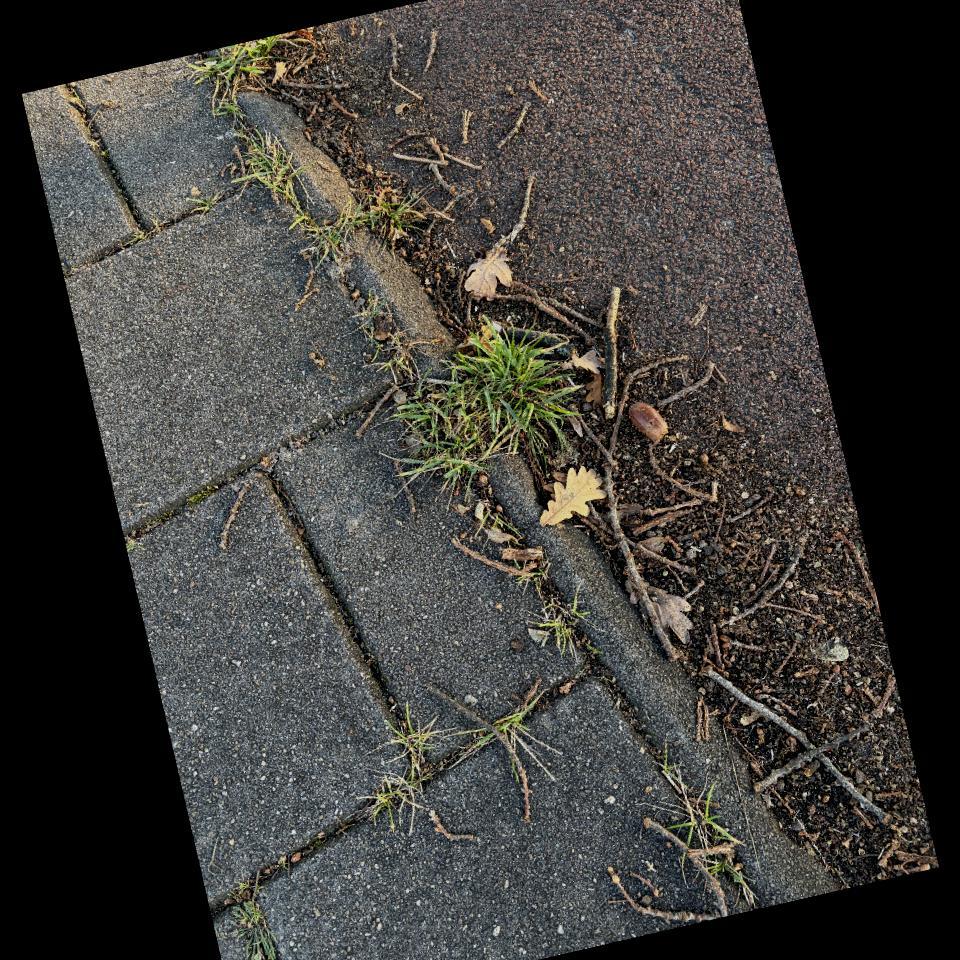weed: (399, 333, 574, 485), (642, 760, 755, 917), (362, 707, 441, 831), (290, 192, 426, 264), (190, 30, 298, 113), (237, 129, 318, 236), (529, 591, 583, 660), (232, 899, 276, 960), (185, 192, 220, 213)
